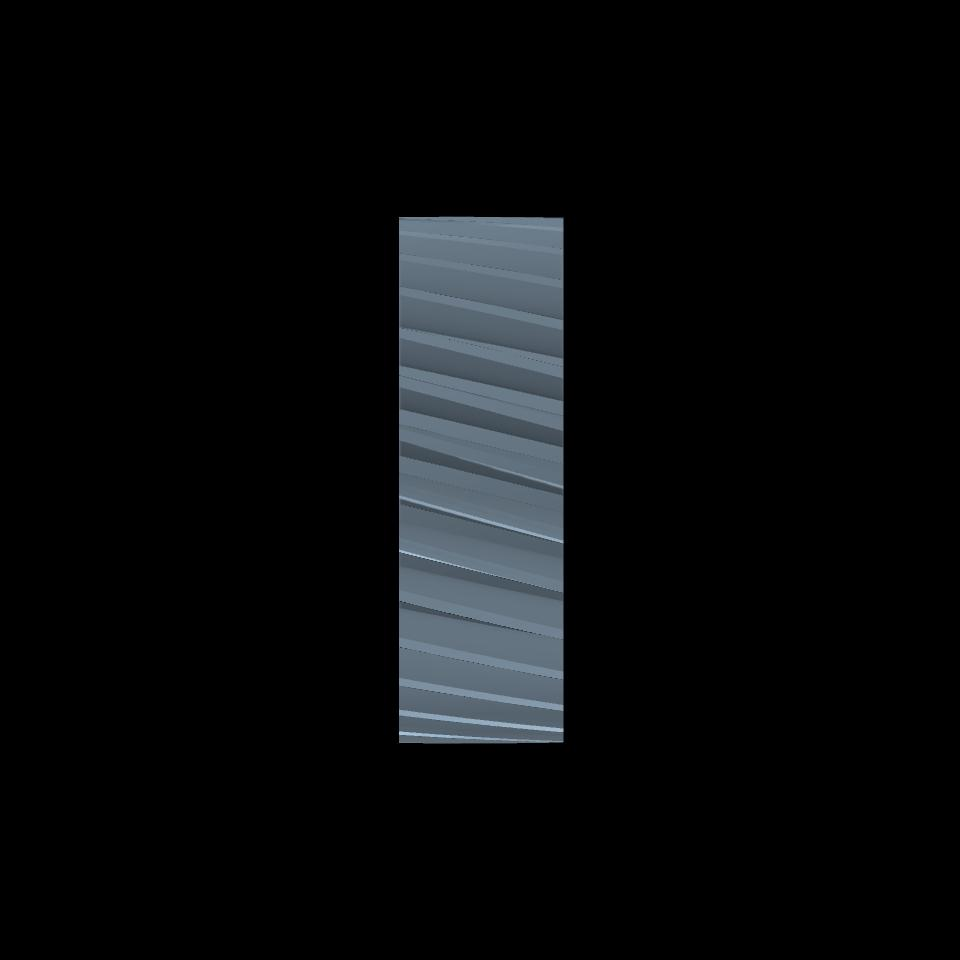Helical: (398, 216, 561, 743)
